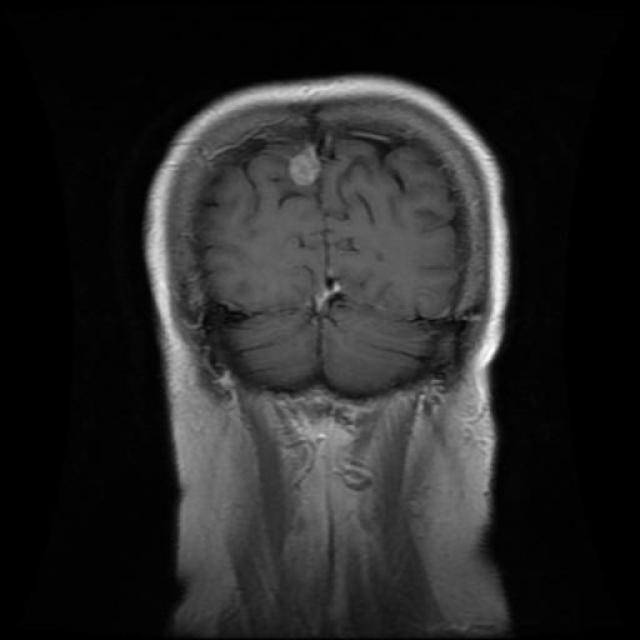meningioma: (289, 145, 321, 184)
